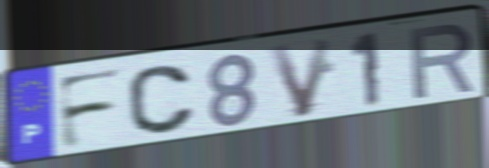1: (348, 28, 383, 111)
8: (205, 51, 259, 130)
C: (124, 63, 199, 138)
F: (55, 65, 126, 153)
R: (407, 21, 478, 103)
V: (265, 34, 336, 121)
